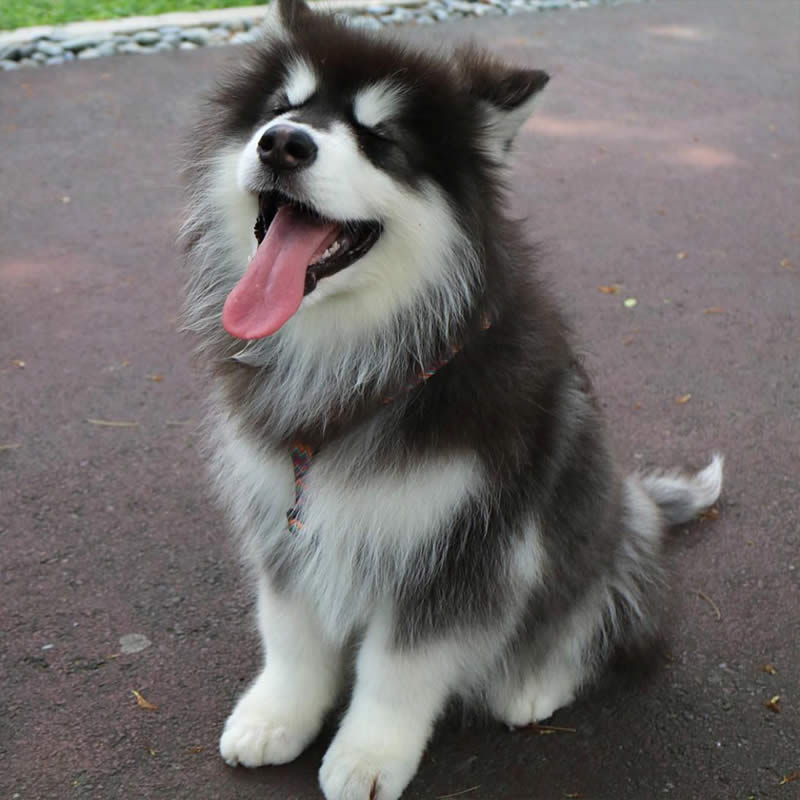dog: (170, 1, 716, 772)
